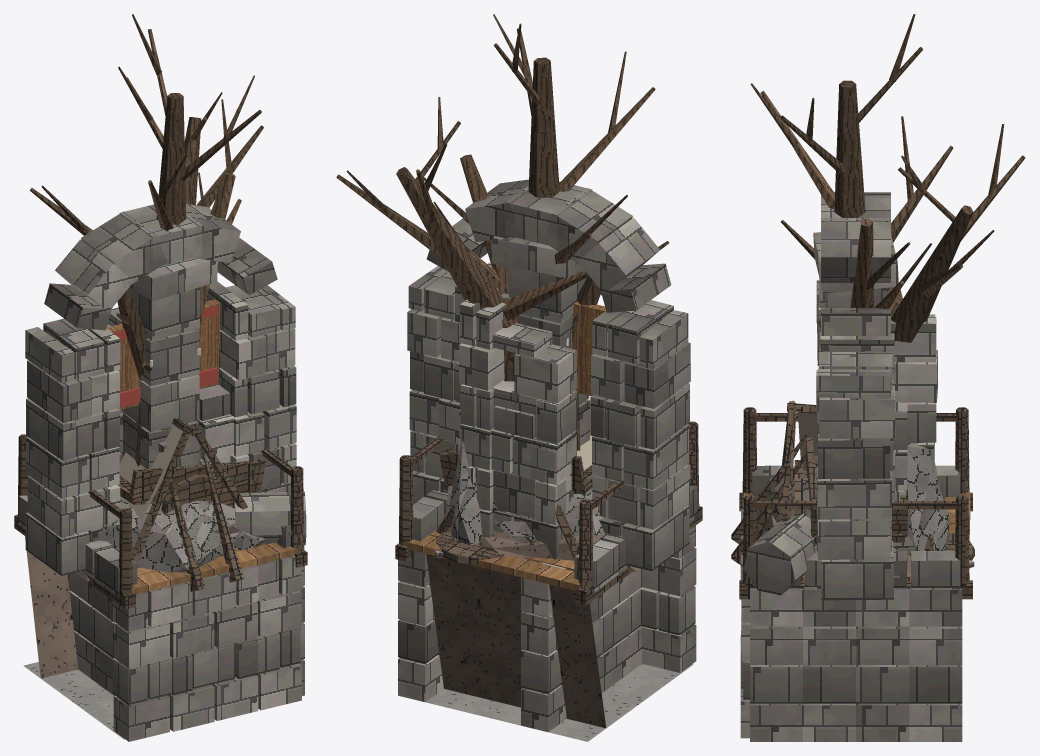
The model's file is scarlands_kit.glb.
The picture shows the model from 3 angles, left to right: view 1: azimuth 30°, elevation 25°; view 2: azimuth 150°, elevation 25°; view 3: azimuth 270°, elevation 25°; orthographic projection. The views are drawn at different scales.
Visible parts, largest first — view 1: scar_ruin_arch_mesh, scar_ditch_crossing_planks_mesh, scar_ditch_corner_mesh, scar_ruin_pillar_mesh, scar_dead_tree_tall_mesh, scar_ditch_end_mesh, scar_rock_outcrop_mesh, scar_ditch_straight_mesh, scar_cart_broken_mesh, scar_camp_tent_ruin_mesh, scar_wild_warning_sign_mesh, scar_rubble_large_mesh (+4 smaller); view 2: scar_ruin_arch_mesh, scar_ditch_crossing_planks_mesh, scar_ditch_corner_mesh, scar_ruin_wall_end_mesh, scar_ditch_end_mesh, scar_ruin_wall_mesh, scar_dead_tree_bent_mesh, scar_dead_tree_tall_mesh, scar_ditch_straight_mesh, scar_ruin_pillar_mesh, scar_rock_outcrop_mesh, scar_ruin_wall_corner_mesh (+7 smaller); view 3: scar_ditch_corner_mesh, scar_ruin_arch_mesh, scar_dead_tree_tall_mesh, scar_ditch_crossing_planks_mesh, scar_dead_tree_bent_mesh, scar_ruin_wall_end_mesh, scar_ditch_crossing_stone_mesh, scar_rubble_large_mesh, scar_rock_outcrop_mesh, scar_camp_tent_ruin_mesh, scar_dead_tree_split_mesh, scar_cart_broken_mesh (+3 smaller).
Part boxes in pixels (x1,y1,x2,y2): scar_ruin_arch_mesh: (25, 204, 296, 575); scar_ditch_crossing_planks_mesh: (14, 434, 307, 741); scar_ditch_corner_mesh: (23, 556, 304, 741); scar_ruin_pillar_mesh: (122, 258, 217, 468); scar_dead_tree_tall_mesh: (30, 14, 261, 466); scar_ditch_end_mesh: (68, 572, 257, 731); scar_rock_outcrop_mesh: (80, 496, 265, 572); scar_ditch_straight_mesh: (169, 455, 258, 696); scar_cart_broken_mesh: (117, 452, 265, 514); scar_camp_tent_ruin_mesh: (119, 417, 247, 562); scar_wild_warning_sign_mesh: (106, 299, 220, 409); scar_rubble_large_mesh: (75, 491, 306, 581); scar_ruin_arch_mesh: (407, 179, 690, 571); scar_ditch_crossing_planks_mesh: (395, 421, 702, 728); scar_ditch_corner_mesh: (398, 525, 696, 741); scar_ruin_wall_end_mesh: (459, 288, 576, 537); scar_ditch_end_mesh: (521, 568, 642, 732); scar_ruin_wall_mesh: (475, 323, 576, 556); scar_dead_tree_bent_mesh: (336, 97, 588, 381); scar_dead_tree_tall_mesh: (433, 14, 655, 294); scar_ditch_straight_mesh: (450, 572, 522, 723); scar_ruin_pillar_mesh: (491, 236, 589, 445); scar_rock_outcrop_mesh: (450, 439, 607, 545); scar_ruin_wall_corner_mesh: (459, 381, 576, 556); scar_ditch_corner_mesh: (740, 500, 962, 741); scar_ruin_arch_mesh: (816, 192, 895, 600); scar_dead_tree_tall_mesh: (750, 14, 953, 308); scar_ditch_crossing_planks_mesh: (739, 407, 972, 738); scar_dead_tree_bent_mesh: (887, 124, 1025, 342); scar_ruin_wall_end_mesh: (891, 314, 937, 475); scar_ditch_crossing_stone_mesh: (752, 465, 974, 589); scar_rubble_large_mesh: (743, 514, 949, 595); scar_rock_outcrop_mesh: (756, 442, 949, 556); scar_camp_tent_ruin_mesh: (781, 400, 934, 550); scar_dead_tree_split_mesh: (781, 218, 910, 307); scar_cart_broken_mesh: (794, 437, 974, 560).
Bounding box in the file's own units: 3.09 × 7.07 × 2.77.
16 materials, 11 textured.
